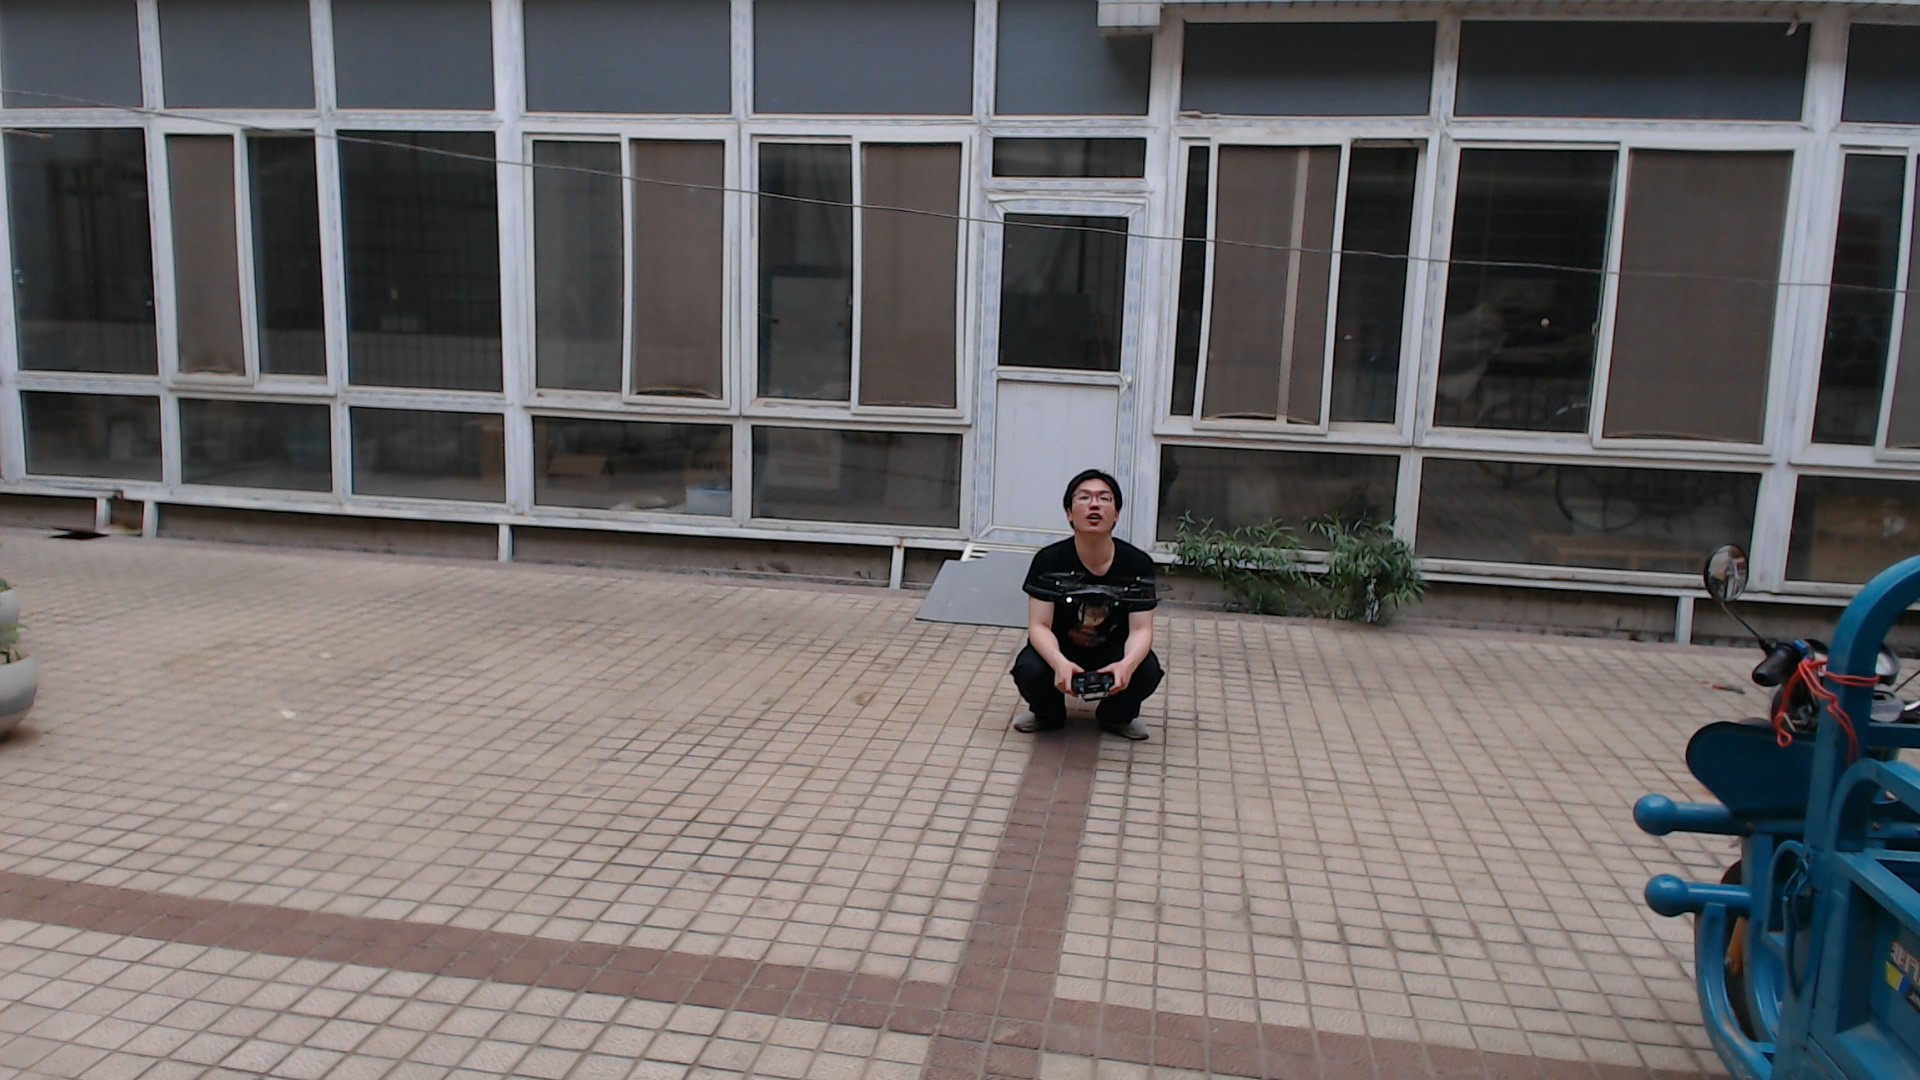drone: (1023, 551, 1168, 644)
person: (1000, 462, 1176, 751)
